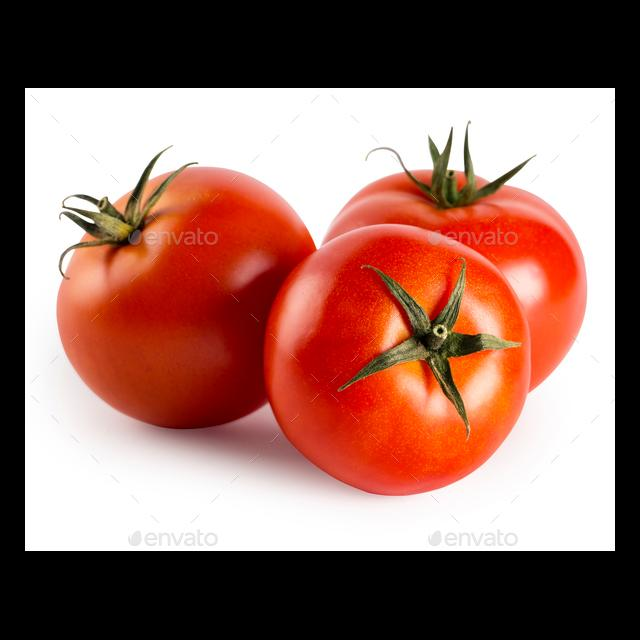tomato: (265, 226, 528, 494), (57, 168, 315, 428), (323, 174, 586, 390), (142, 172, 172, 208), (113, 190, 132, 214)
